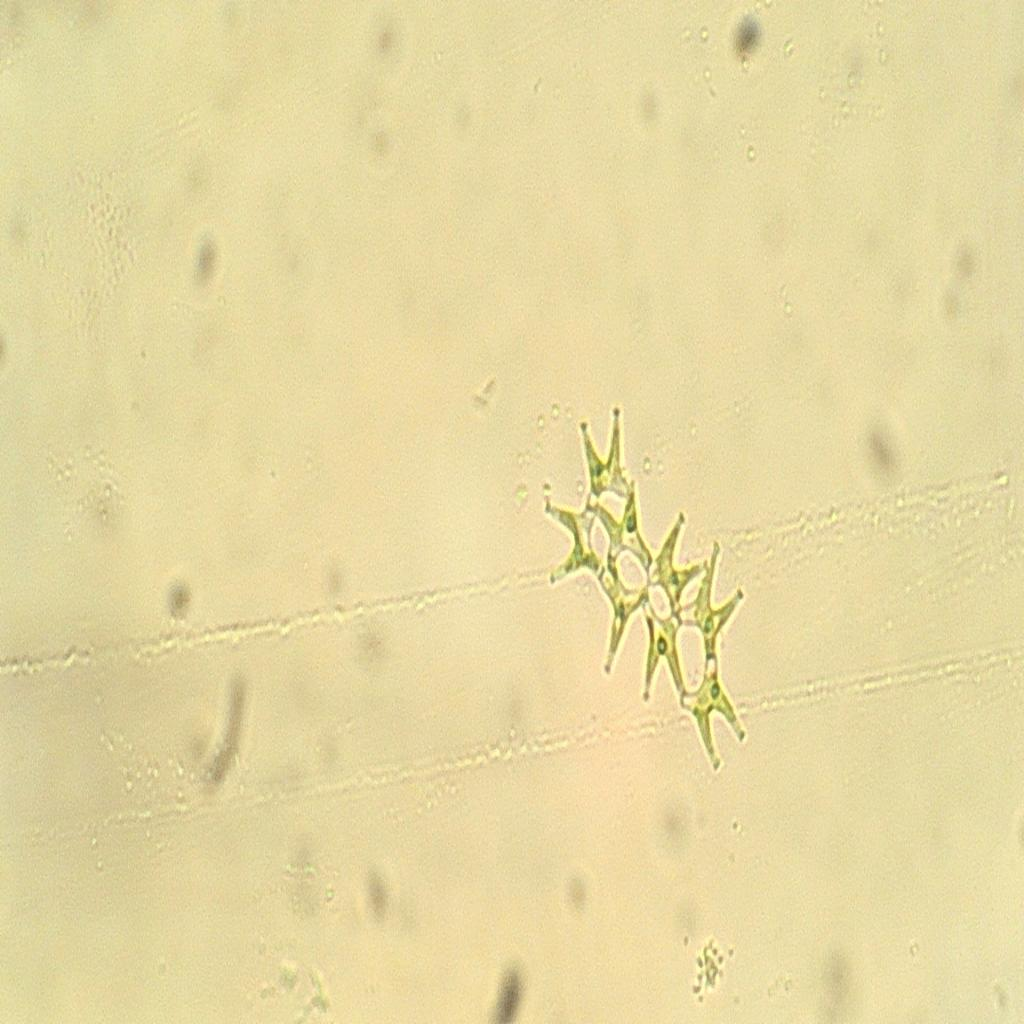Pediastrum_1TH: (530, 402, 766, 798)
